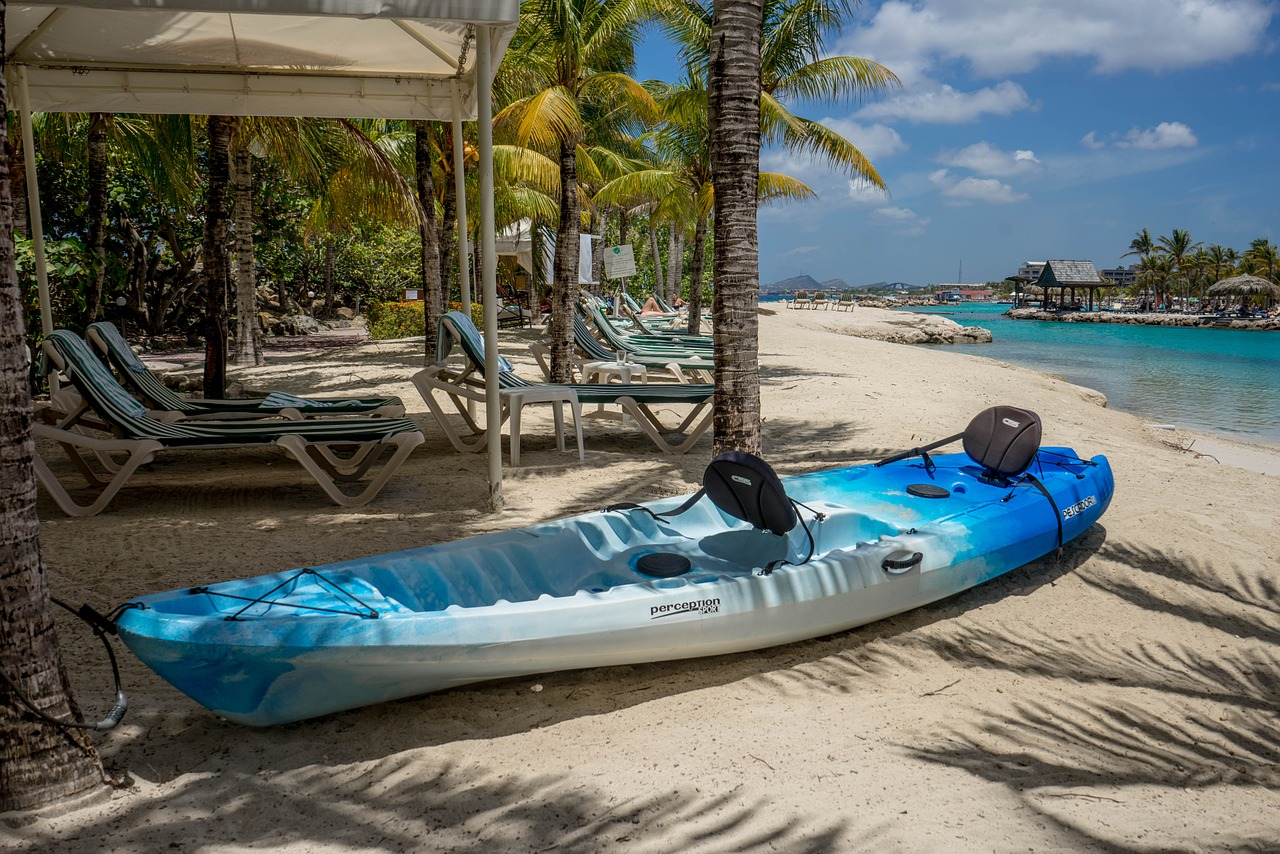kayak: (109, 443, 1117, 734)
